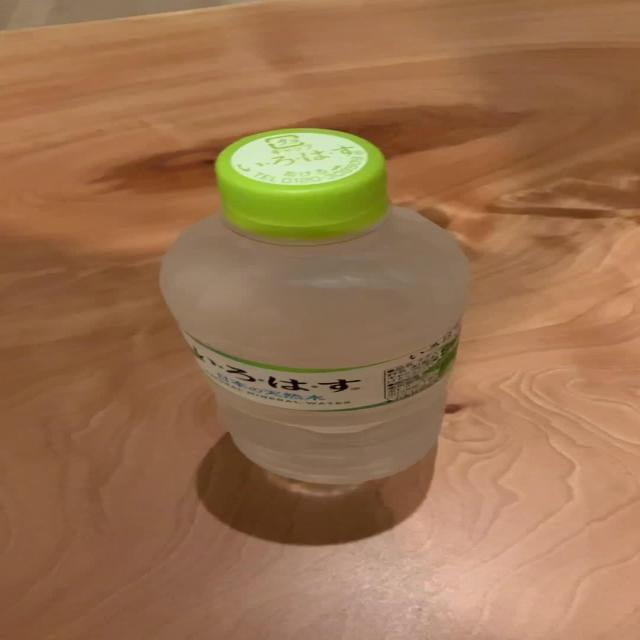chai: (162, 128, 468, 485)
